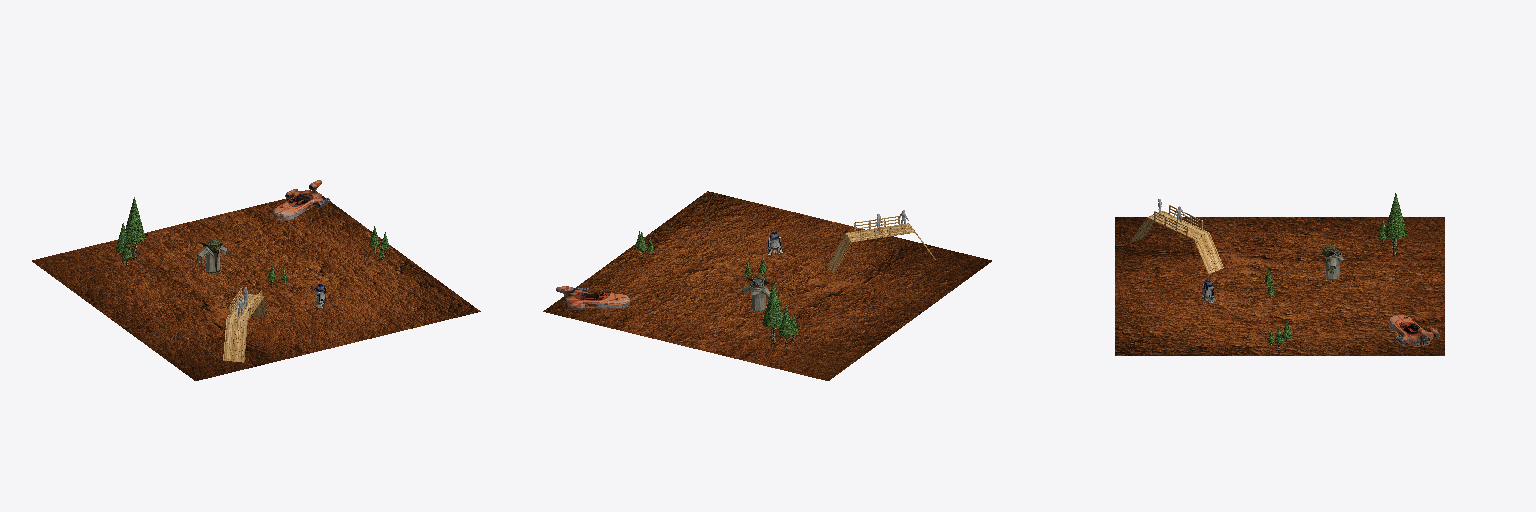
3 views of the same model, side by side, from view 1: azimuth 30°, elevation 25°; view 2: azimuth 150°, elevation 25°; view 3: azimuth 270°, elevation 25° (orthographic).
Parts seen in each view (by area): view 1: Plane, polySurface1_Untitled, Landspeeder, Yoda, Cone22; view 2: Plane, polySurface1_Untitled, Landspeeder, Cone22, Yoda; view 3: Plane, polySurface1_Untitled, Landspeeder, Cone22.
Part boxes in pixels (x1,y1,x2,y2): Plane: (32,191,480,380); polySurface1_Untitled: (223,288,267,362); Landspeeder: (273,180,329,220); Yoda: (195,237,230,273); Cone22: (125,197,145,259); Plane: (543,191,991,380); polySurface1_Untitled: (828,216,935,274); Landspeeder: (556,286,629,309); Cone22: (762,282,782,344); Yoda: (741,275,770,311); Plane: (1115,217,1444,355); polySurface1_Untitled: (1129,205,1223,273); Landspeeder: (1389,315,1439,346); Cone22: (1384,193,1406,255).
Size of the model in its own units: 97.54 by 21.42 by 97.54.
Materials: 25 (8 with a texture image).